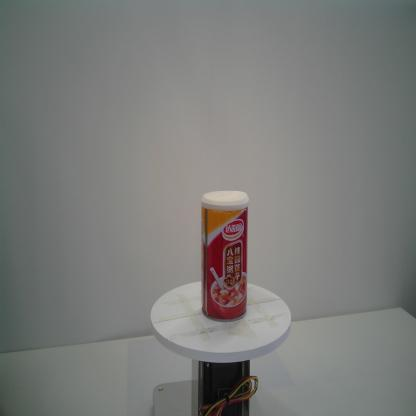Canned Food: (200, 189, 250, 323)
